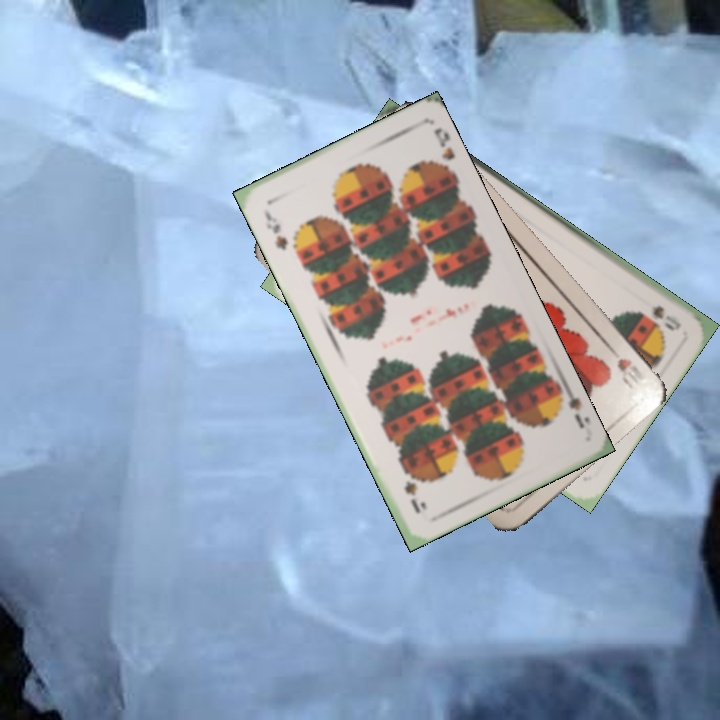H10: (602, 340, 652, 390)
S9: (549, 379, 587, 432), (260, 205, 291, 253)
SO: (647, 301, 684, 334)
